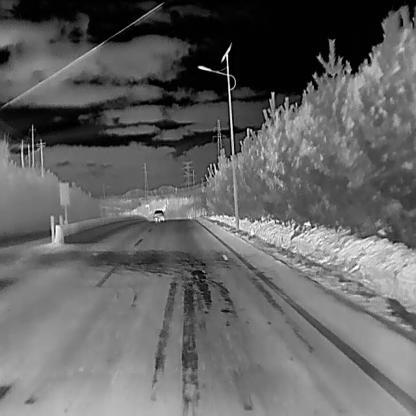car: (152, 208, 166, 220)
